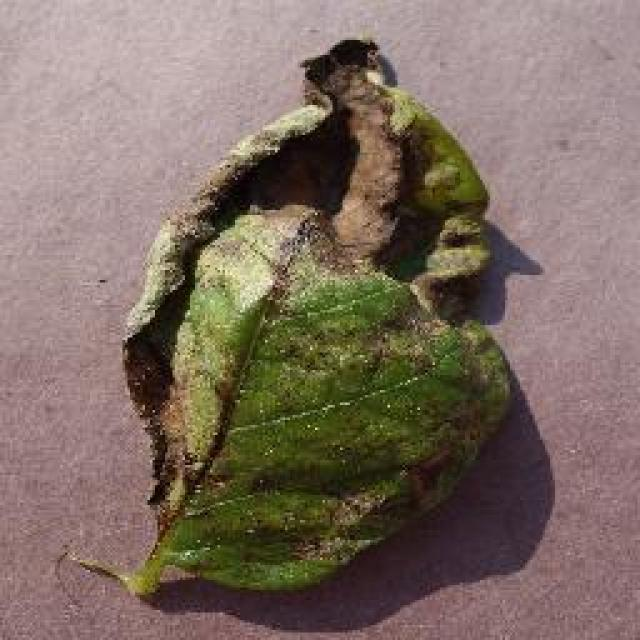late_blight: (70, 35, 520, 603)
